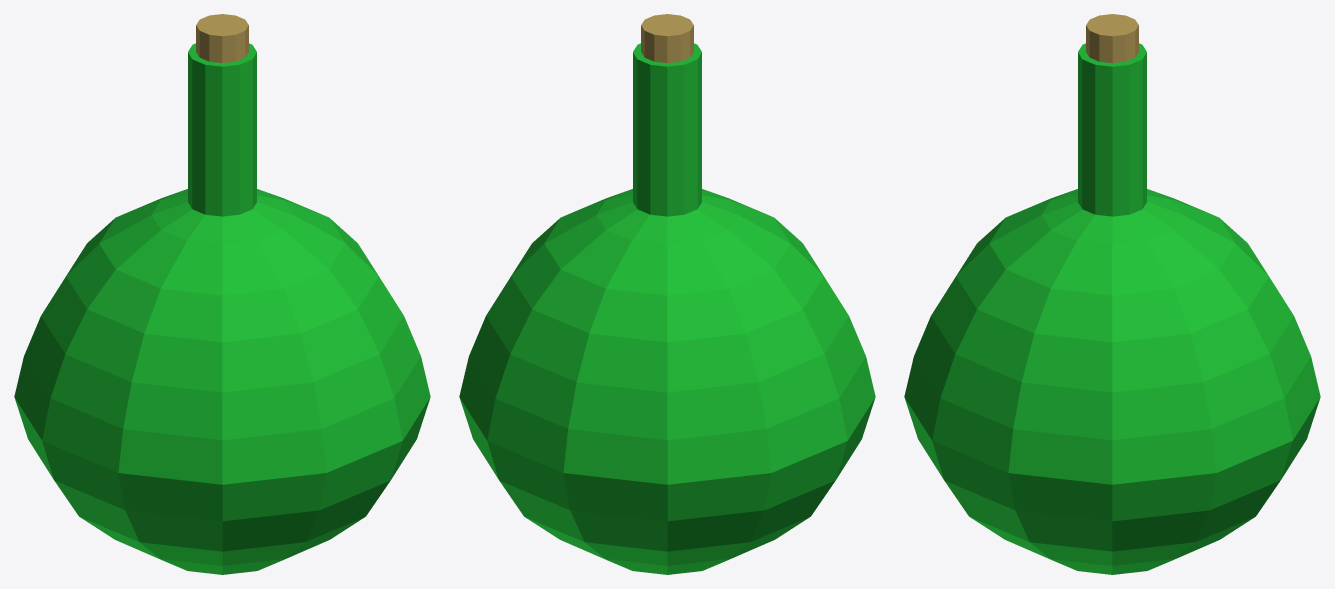
File: BigPotion_Stamina.fbx
The picture shows the model from 3 angles, left to right: view 1: azimuth 30°, elevation 25°; view 2: azimuth 150°, elevation 25°; view 3: azimuth 270°, elevation 25°; orthographic projection.
Visible parts, largest first — view 1: BigPotion_Stamina; view 2: BigPotion_Stamina; view 3: BigPotion_Stamina.
Part boxes in pixels (x1,y1,x2,y2): BigPotion_Stamina: (14, 14, 430, 574); BigPotion_Stamina: (459, 14, 875, 574); BigPotion_Stamina: (904, 14, 1320, 574).
Bounding box in the file's own units: 834 × 1150 × 834.
